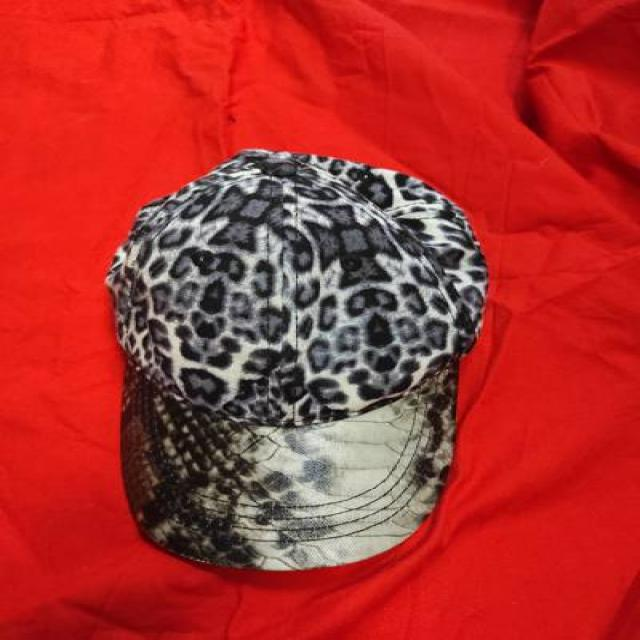Clothes -Biodegradable-: (107, 153, 492, 573)
